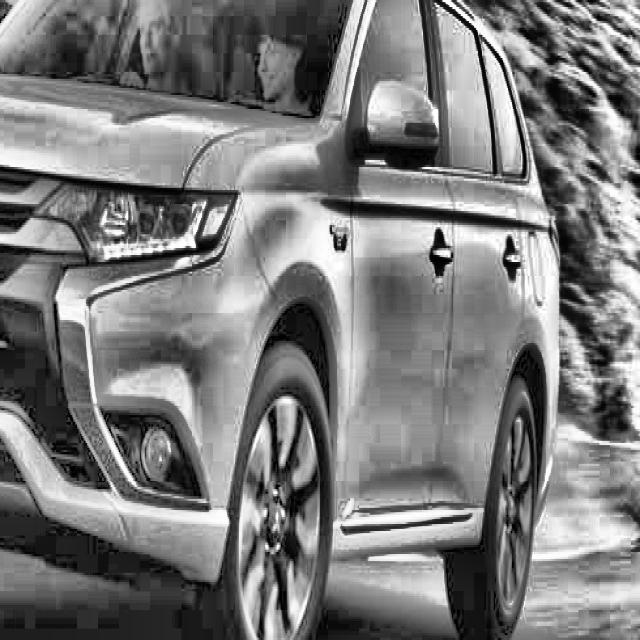light_vehicle: (0, 0, 562, 640)
